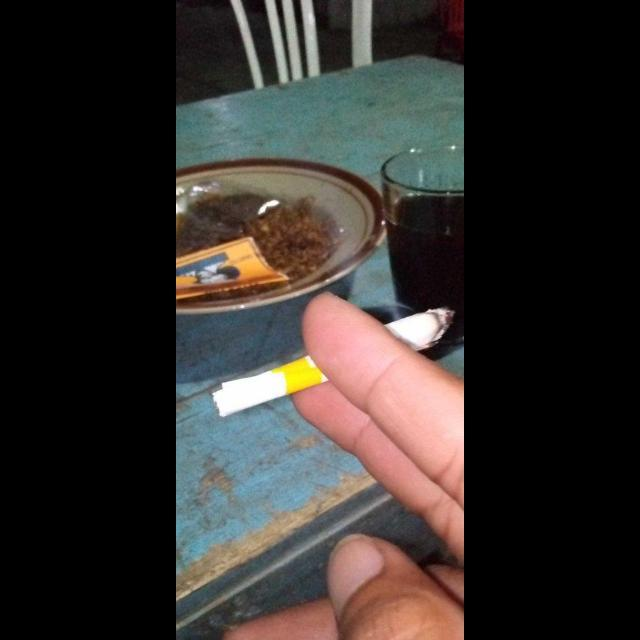rokok: (208, 297, 460, 429)
